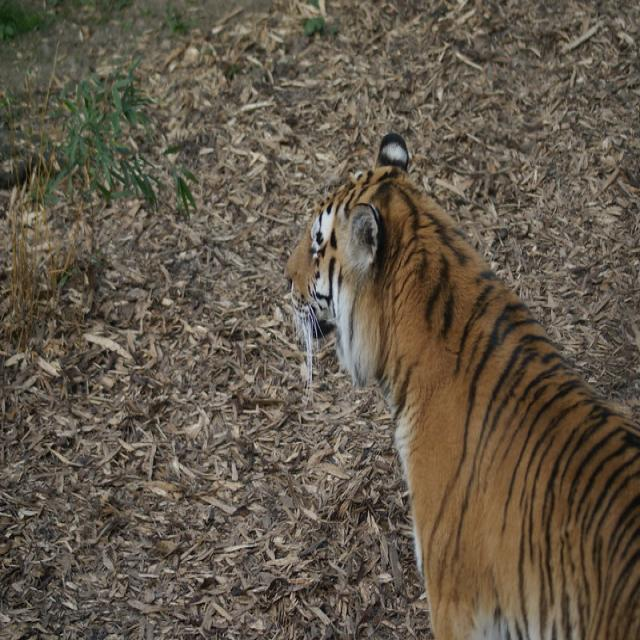Tiger: (284, 137, 639, 639)
